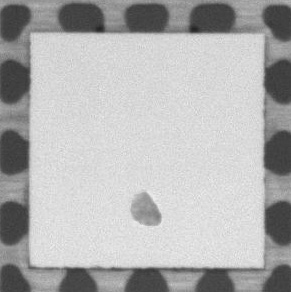DIE_INK: (127, 189, 165, 230)
